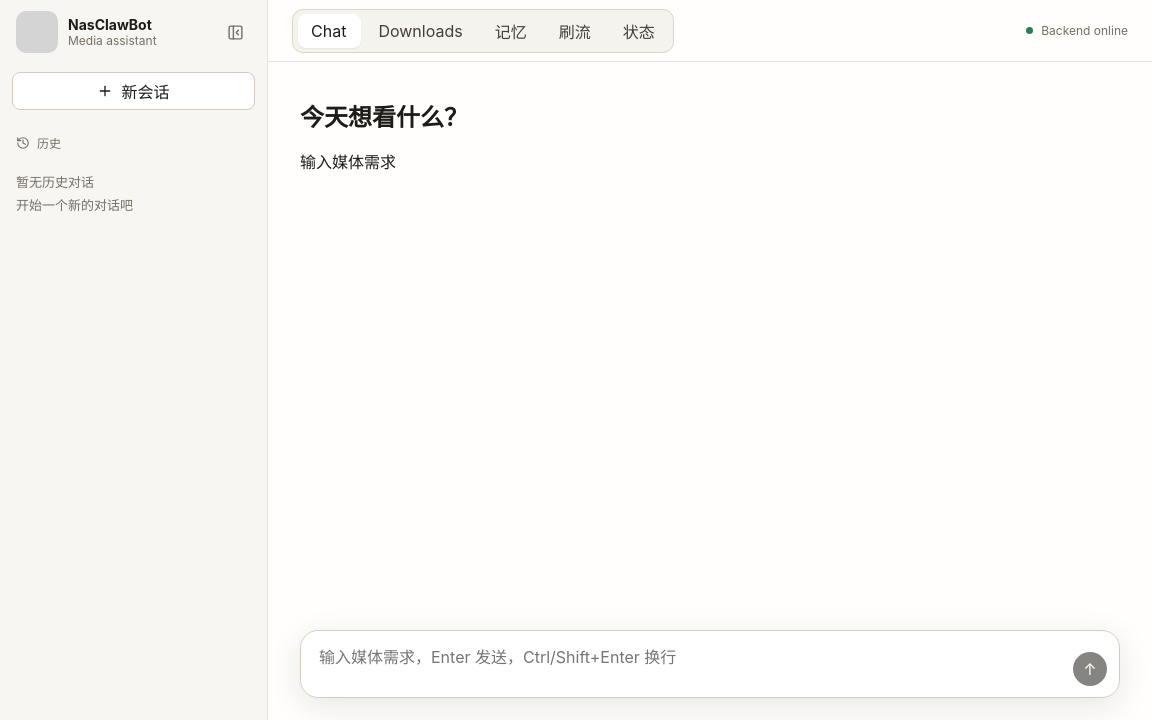
Test case: AppShell › switches to downloads and settings tabs
Click the tab "Downloads" at [421, 30], box x1=364 y1=14 x2=477 y2=48
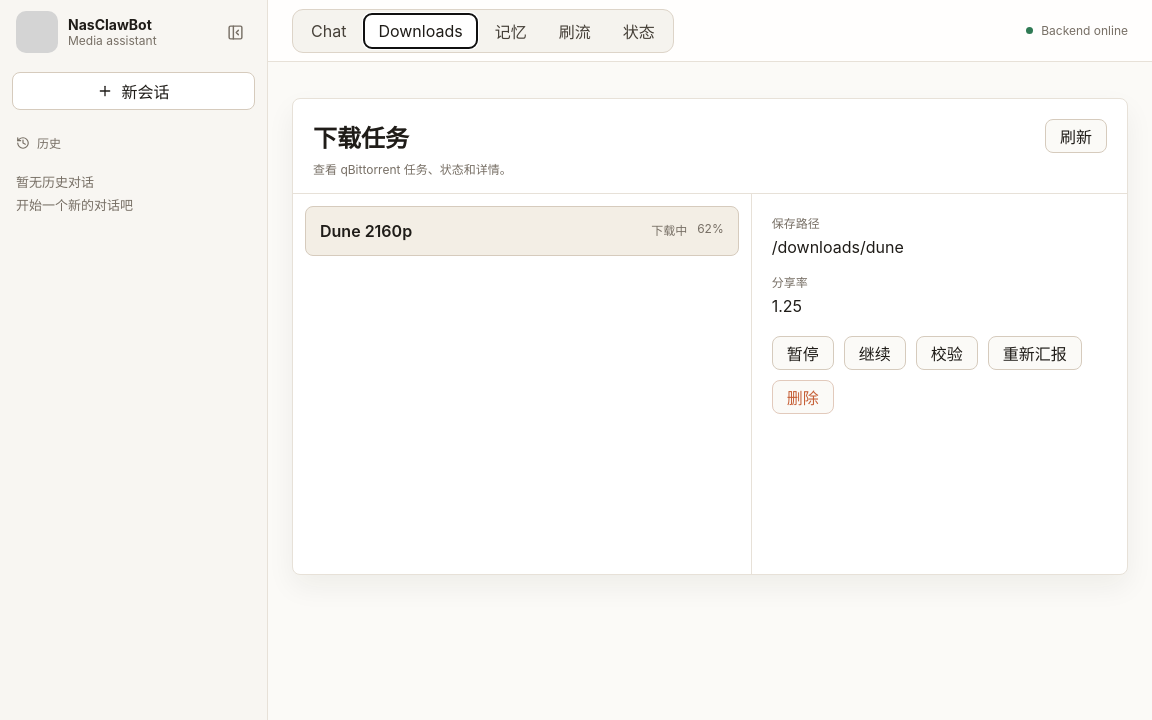
Expected: the heading "下载任务" is shown, x1=313 y1=124 x2=409 y2=153
Click the tab "状态" at [639, 30], box x1=609 y1=14 x2=669 y2=48
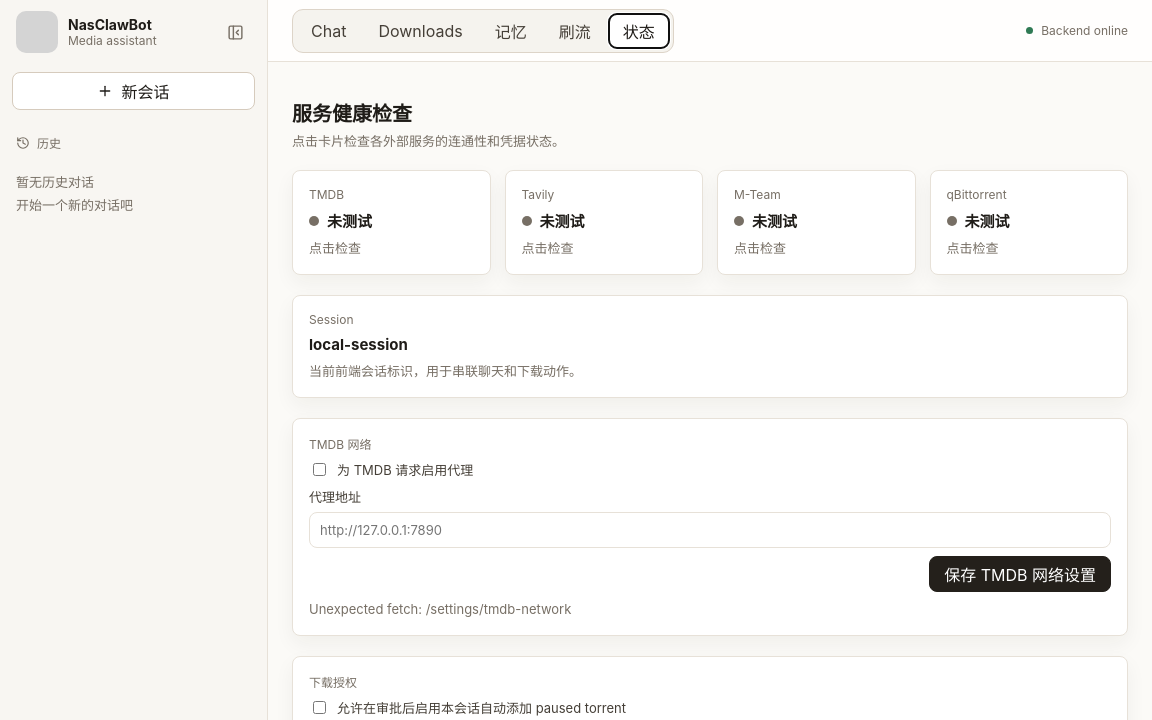
Expected: the heading "服务健康检查" is shown, x1=292 y1=102 x2=412 y2=126
Expected: the text "点击卡片检查各外部服务的连通性和凭据状态。" is shown, x1=292 y1=131 x2=565 y2=150
Expected: the text "未测试" is shown 4 times, x1=327 y1=210 x2=372 y2=231; x1=540 y1=210 x2=584 y2=231; x1=752 y1=210 x2=797 y2=231; x1=964 y1=210 x2=1010 y2=231
